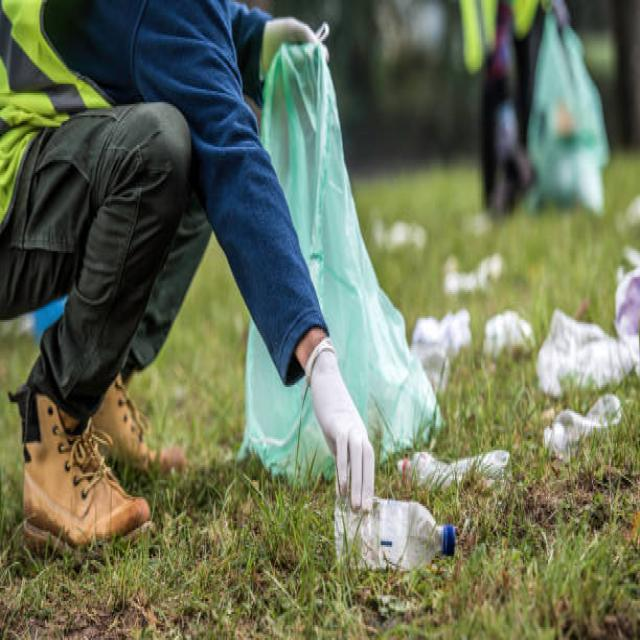plastic: (438, 314, 636, 482), (327, 508, 476, 582)
trash: (238, 46, 434, 458), (519, 21, 616, 197)
